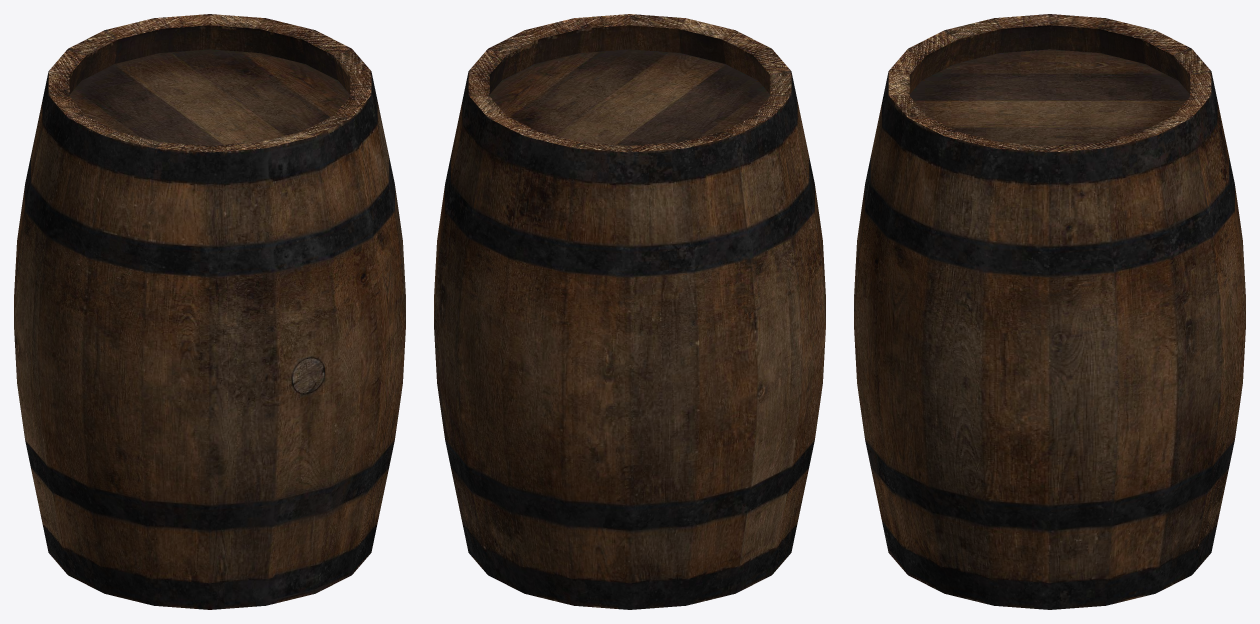
Rendered from Wooden_Barrel.gltf.
The picture shows the model from 3 angles, left to right: view 1: azimuth 30°, elevation 25°; view 2: azimuth 150°, elevation 25°; view 3: azimuth 270°, elevation 25°; orthographic projection.
Visible parts, largest first — view 1: WoodenBarrel_LOD0; view 2: WoodenBarrel_LOD0; view 3: WoodenBarrel_LOD0.
Boxes of the visible parts, bbox=[...] form: WoodenBarrel_LOD0: bbox=[14, 14, 405, 609]; WoodenBarrel_LOD0: bbox=[434, 14, 825, 609]; WoodenBarrel_LOD0: bbox=[854, 14, 1245, 609].
Size of the model in its own units: 0.6734 by 0.8538 by 0.6631.
1 material, 1 textured.
